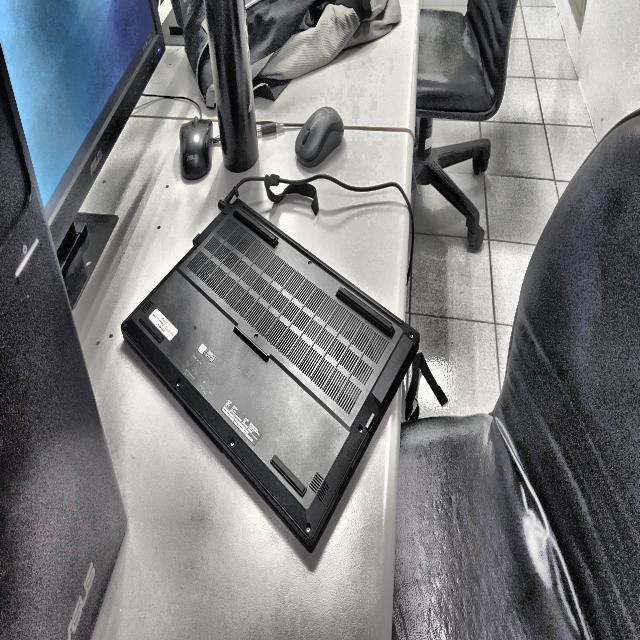Laptop: (123, 200, 419, 551)
MOUSE: (294, 107, 345, 167), (180, 118, 219, 179), (256, 122, 286, 135)
Screen: (0, 0, 165, 248)
